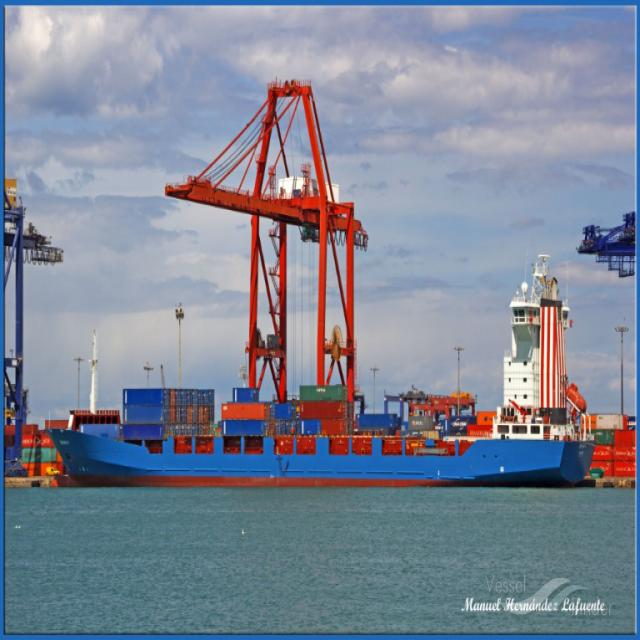Container Ship: (44, 266, 596, 487)
